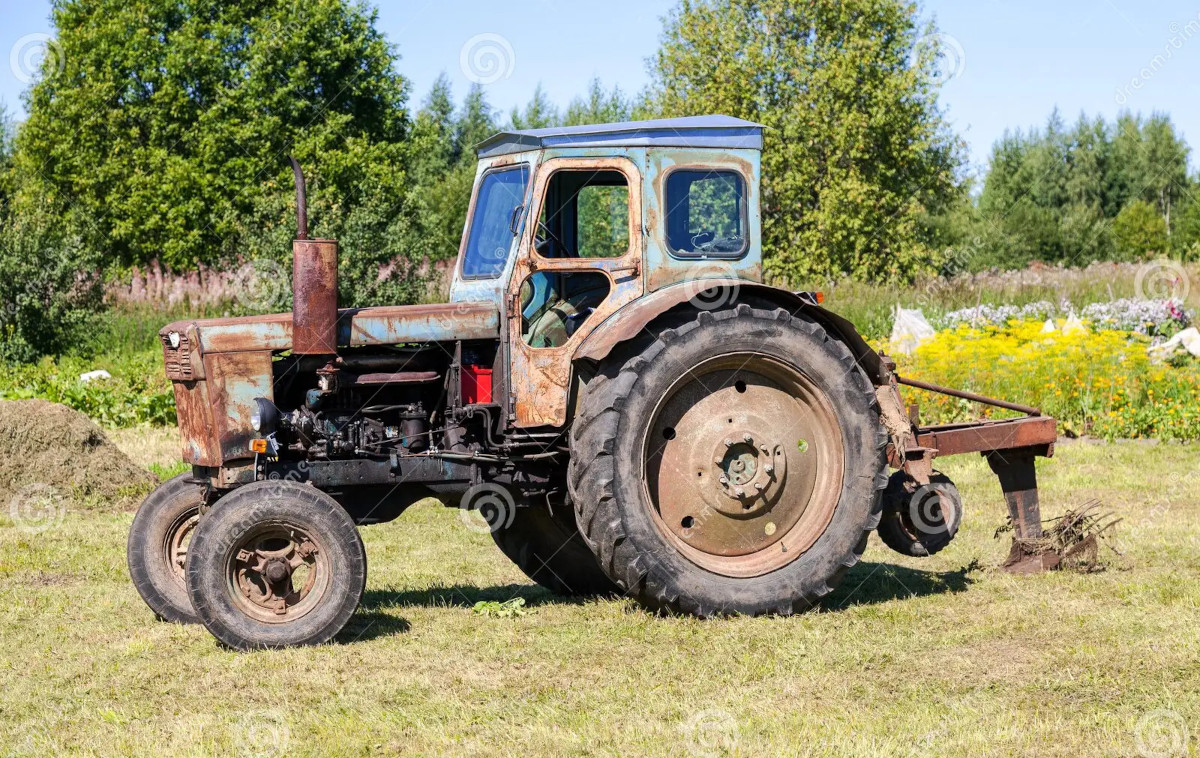tractor: (124, 112, 940, 649)
